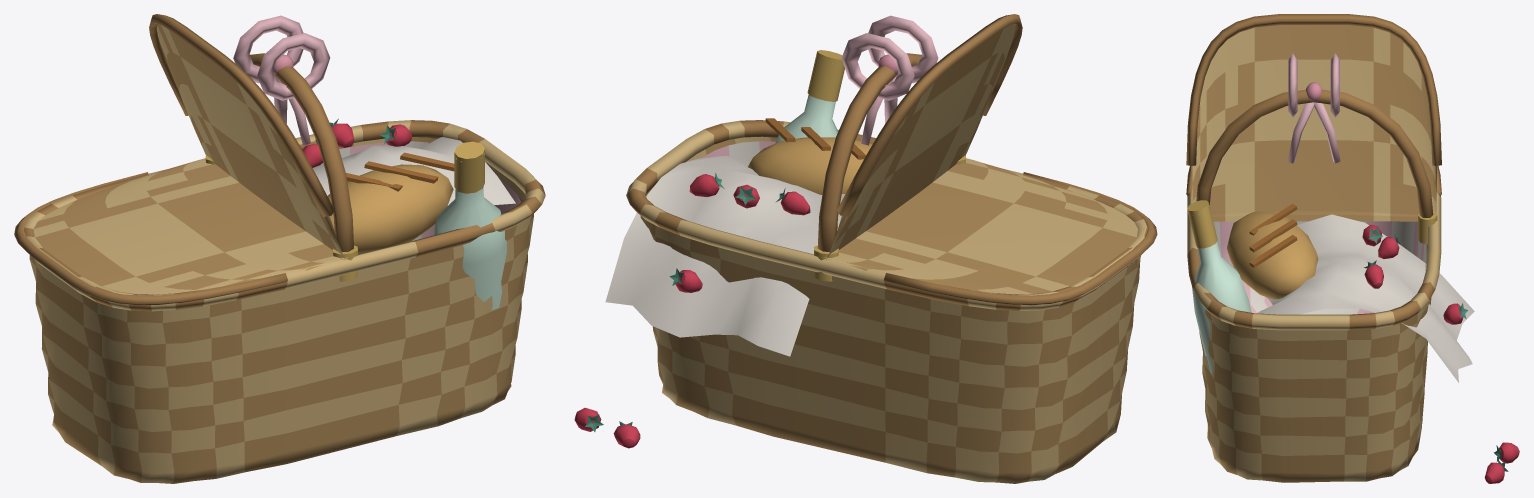
The model's file is picnic_basket.glb.
3 renders of one model, left to right at view 1: azimuth 30°, elevation 25°; view 2: azimuth 150°, elevation 25°; view 3: azimuth 270°, elevation 25°, orthographic. The views are drawn at different scales.
Visible parts, largest first — view 1: picnic_basket; view 2: picnic_basket; view 3: picnic_basket.
Boxes of the visible parts, <box> form: picnic_basket: <box>14,14,545,483</box>; picnic_basket: <box>574,14,1157,483</box>; picnic_basket: <box>1186,14,1519,483</box>.
Size of what is drawn, in the model's own units: 0.5 by 0.4 by 0.35.
